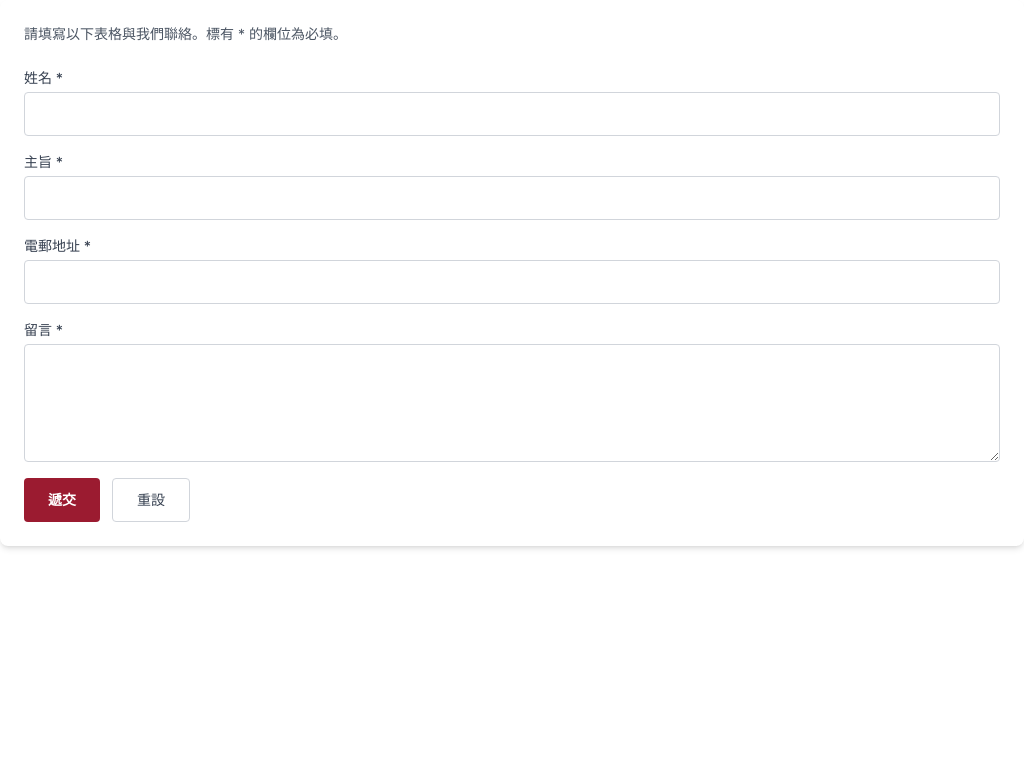
ContactForm › shows validation messages on empty submit (Chinese)
Click the button "遞交" at point(62, 500), box [24,478,100,522]
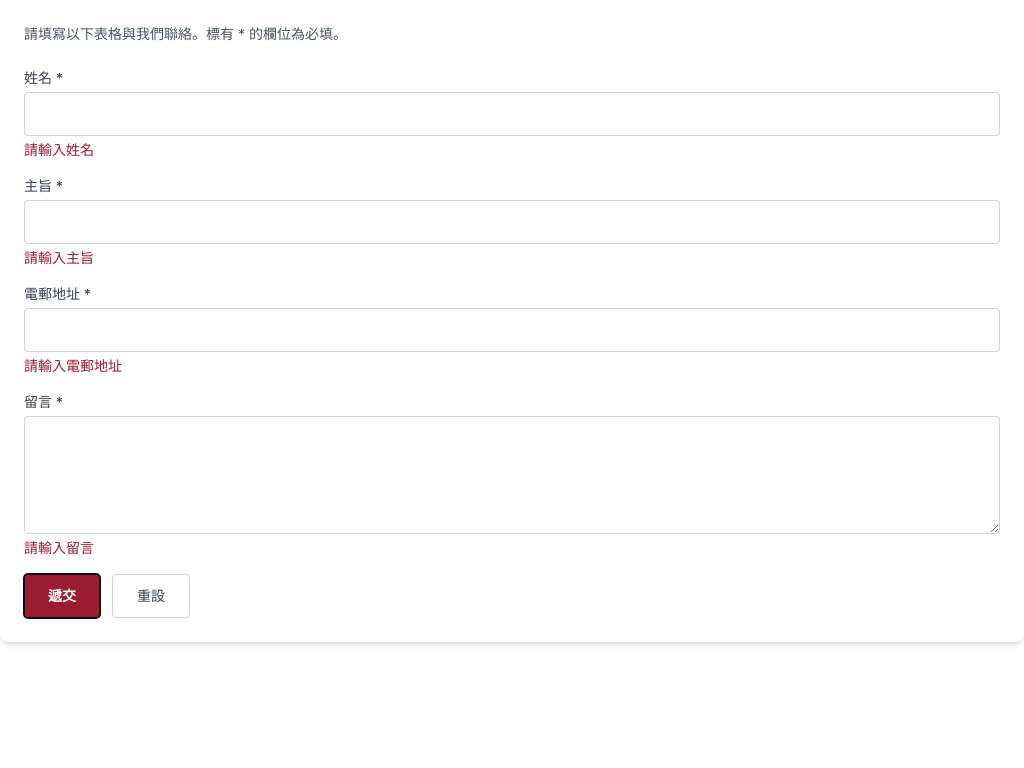
Expected: the text "請輸入姓名" is shown, [24,141,94,158]
Expected: the text "請輸入主旨" is shown, [24,249,94,266]
Expected: the text "請輸入電郵地址" is shown, [24,357,122,374]
